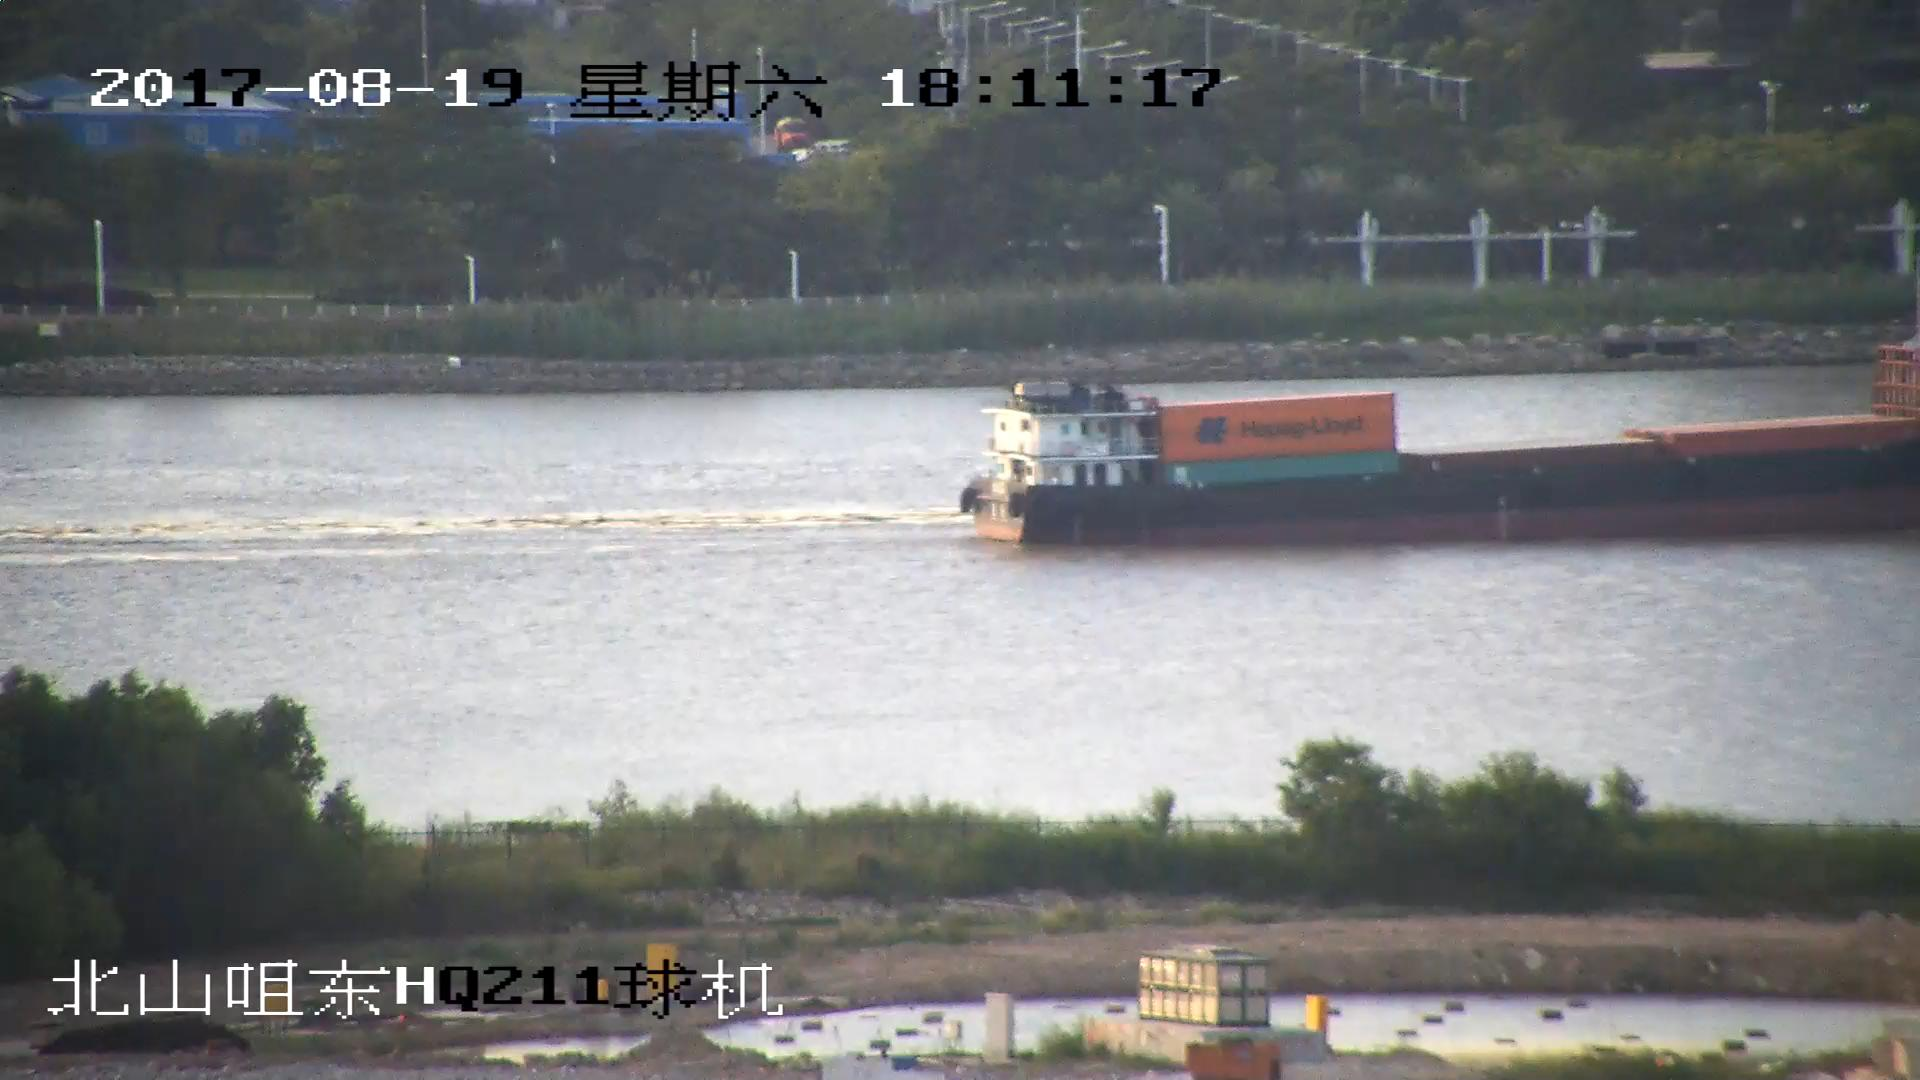container ship: (963, 354, 1920, 546)
